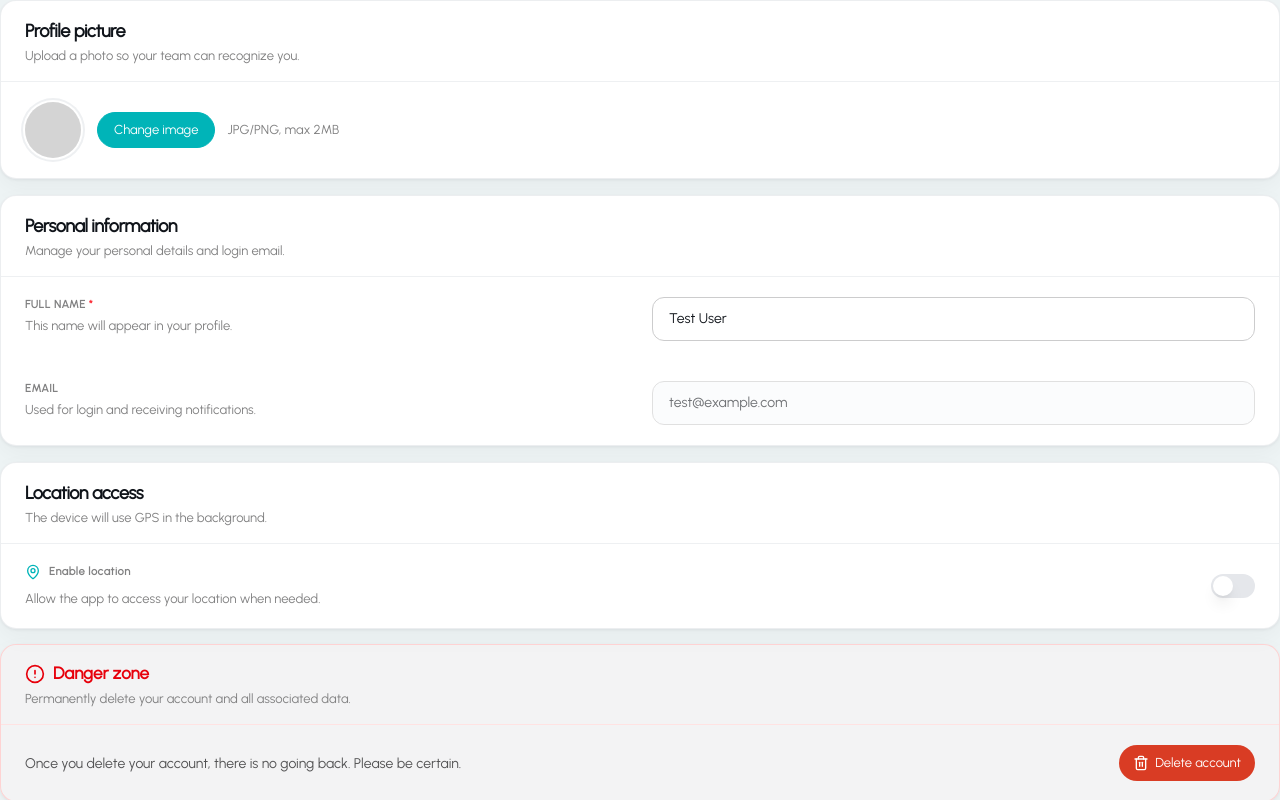
Test: AccountTab › Cancel Button › should reset form to initial values
Replace the text in the field showing "Test User" in the row of "This name will appear in your profile." with "Changed Name" at (954,319), box top-left (652, 297), bottom-right (1255, 341)
(page scrolled)
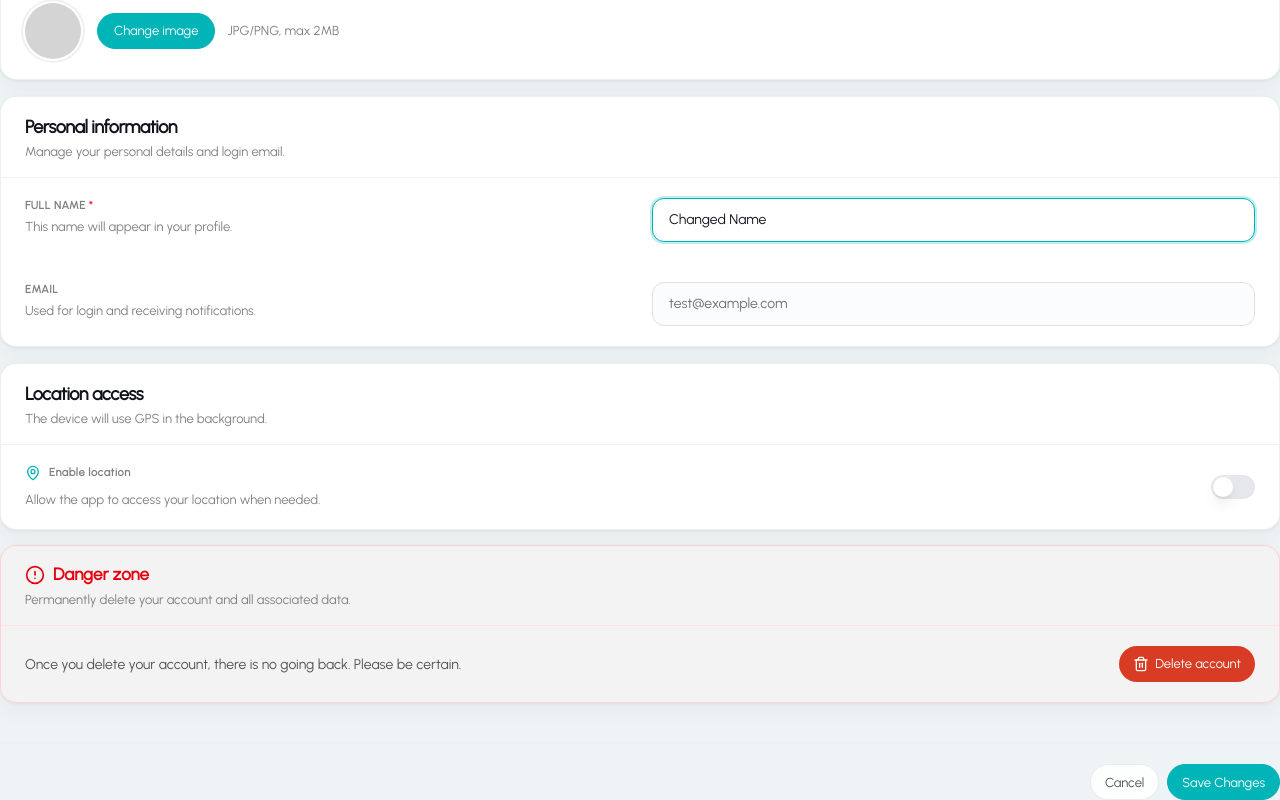
Click the button "Cancel" at (1125,782), box top-left (1090, 764), bottom-right (1159, 799)
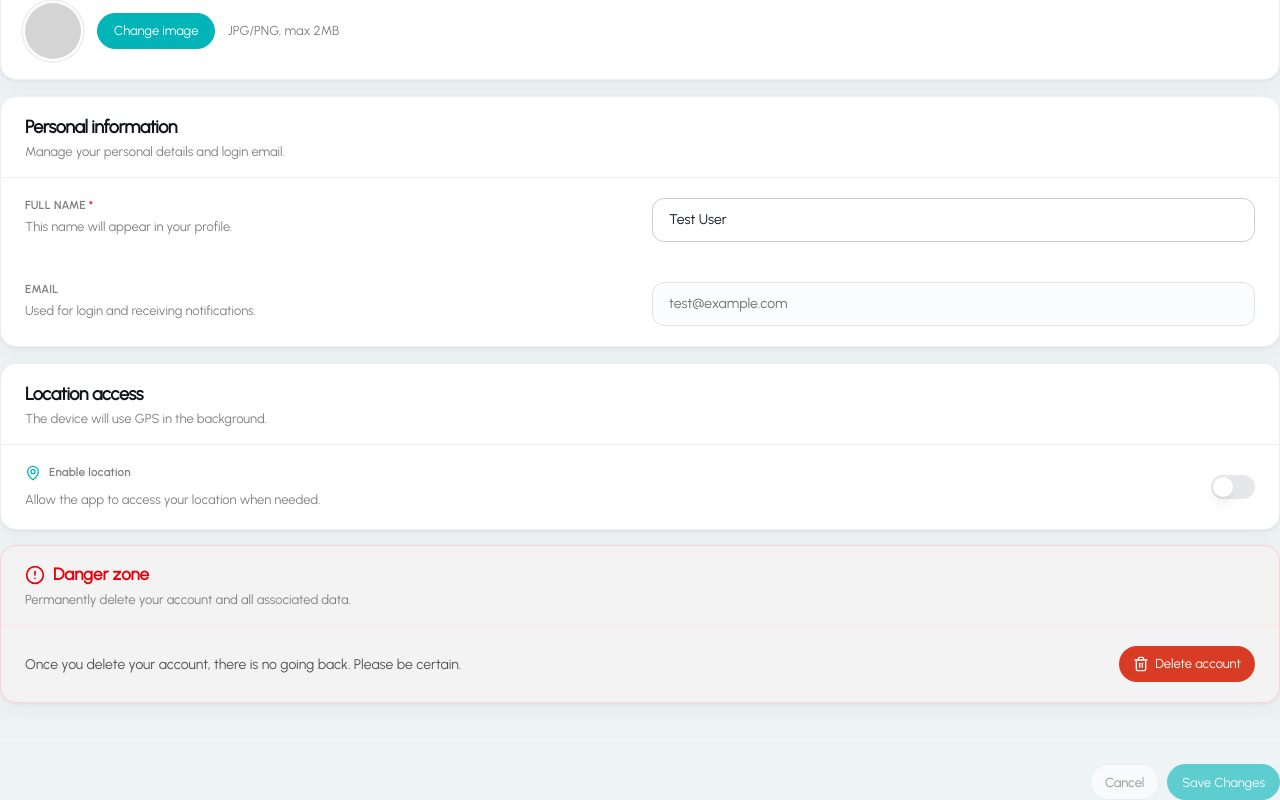
Result: the field showing "Test User" in the row of "This name will appear in your profile." is shown at top-left (652, 198), bottom-right (1255, 242)
